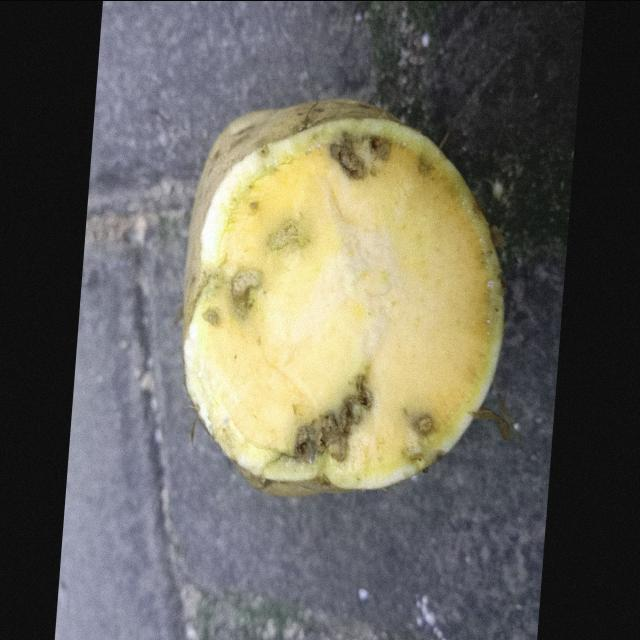Sick Sweet Potato_Tuber Rot: (182, 98, 509, 495)
